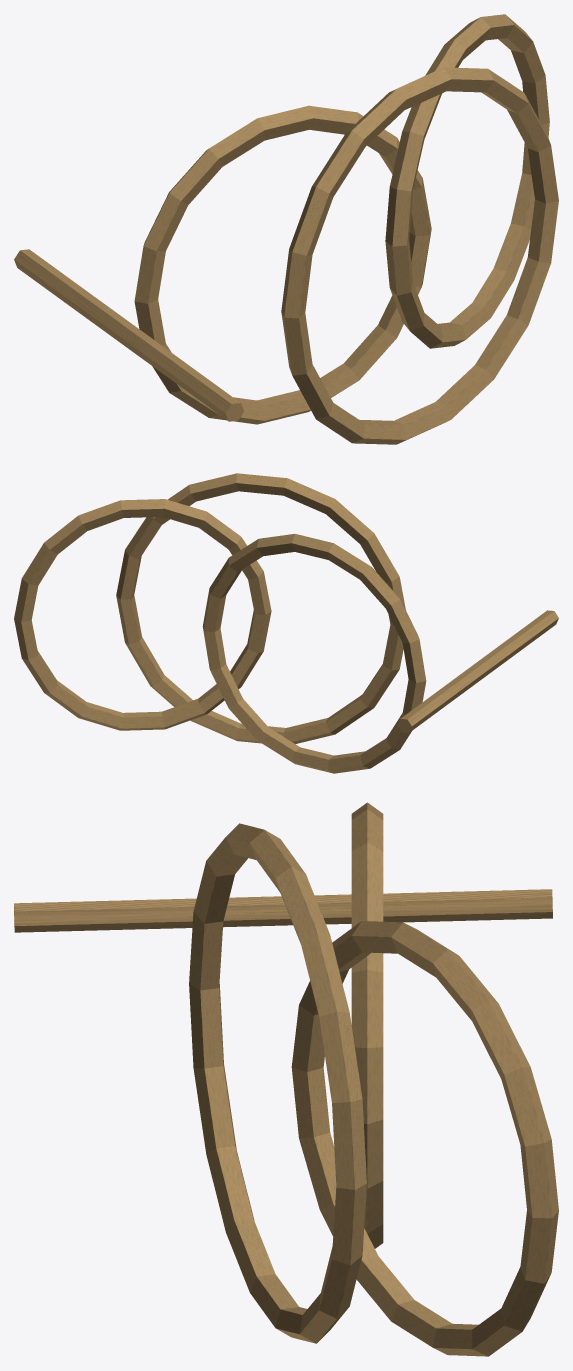
File: en-004_rope_debris_set__small.obj
3 renders of one model, top to bottom at view 1: azimuth 30°, elevation 25°; view 2: azimuth 150°, elevation 25°; view 3: azimuth 270°, elevation 25°, orthographic. The views are drawn at different scales.
Visible parts, largest first — view 1: en-004_rope_debris_set__small; view 2: en-004_rope_debris_set__small; view 3: en-004_rope_debris_set__small.
Boxes of the visible parts, box(x1,y1,x2,y2) form: en-004_rope_debris_set__small: box(14, 14, 558, 444); en-004_rope_debris_set__small: box(14, 473, 558, 773); en-004_rope_debris_set__small: box(14, 802, 558, 1356).
Size of the model in its own units: 0.7688 by 0.4944 by 0.5188.
1 material, 1 textured.
